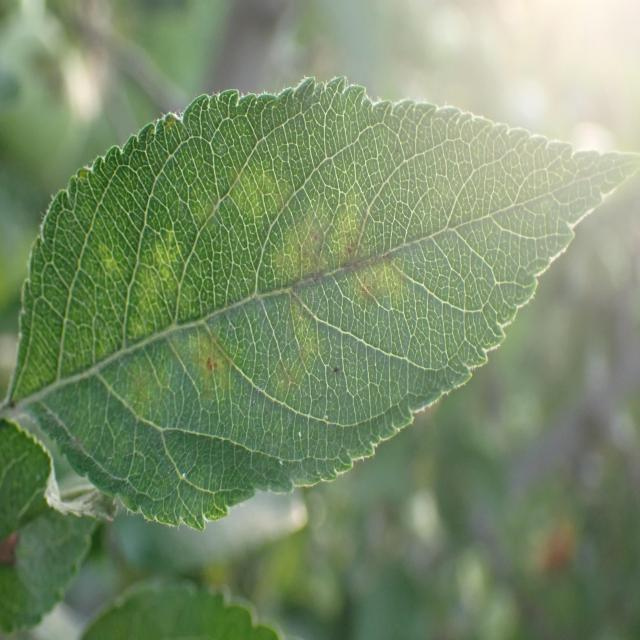scab: (255, 213, 440, 330)
